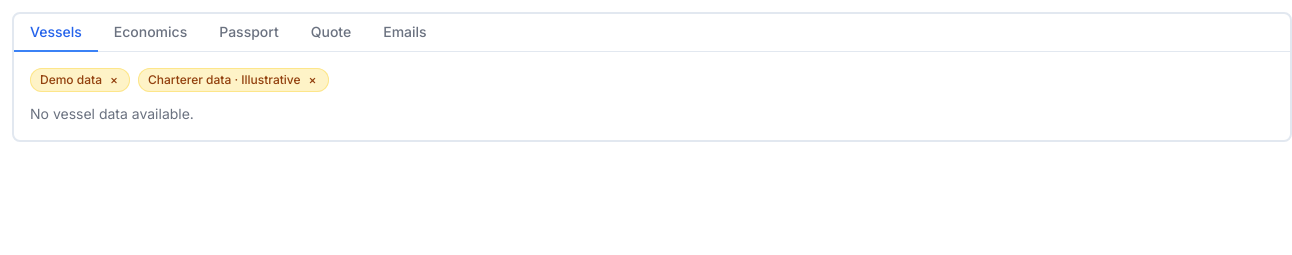
Test: MatchTabs — Emails tab (PI2 behavioral) › renders EmailsTab content when Emails tab is active (PI2)
Click the tab "Emails".
click(405, 33)  # box [367,14,443,52]
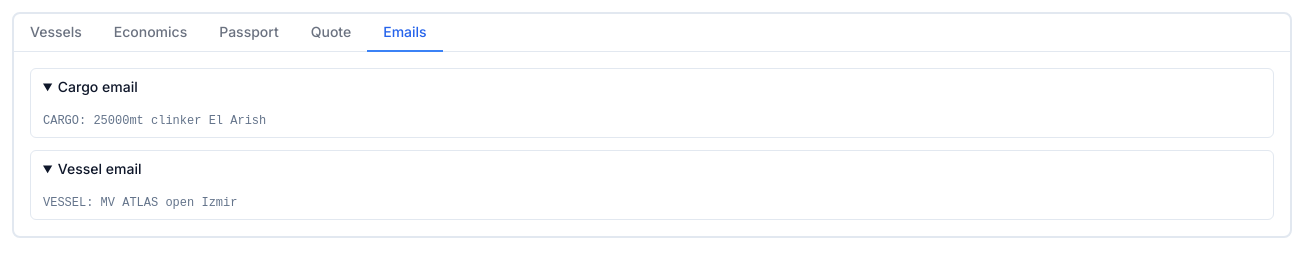
Now the text "CARGO: 25000mt clinker El Arish" is shown, box [43,114,266,128]
Now the text "VESSEL: MV ATLAS open Izmir" is shown, box [43,196,237,210]
